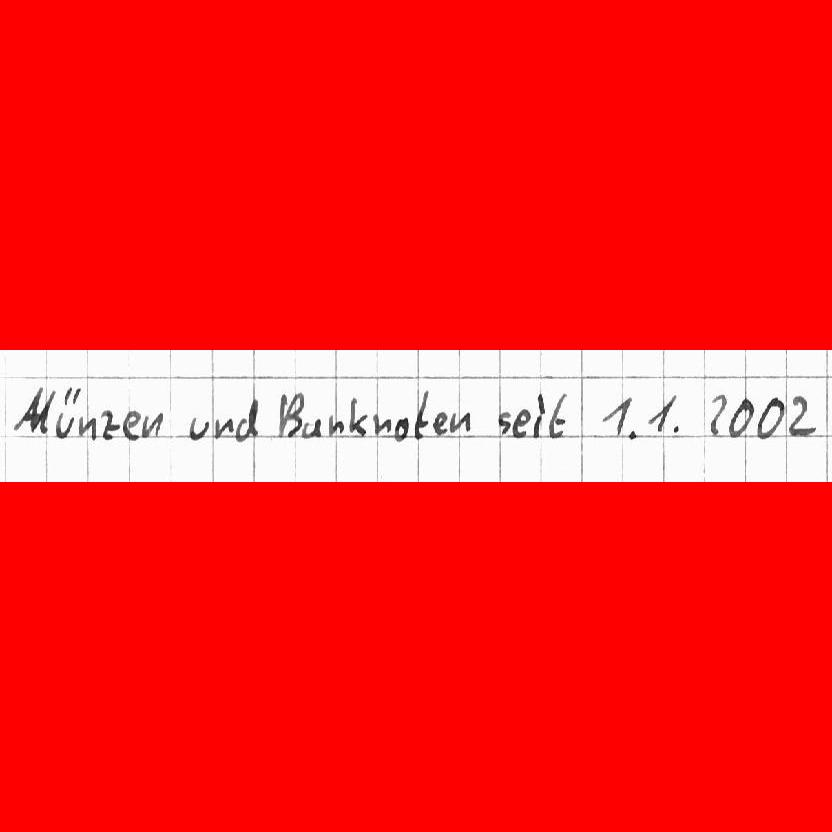Char: (12, 385, 56, 434), (54, 385, 81, 439), (787, 394, 817, 437), (601, 396, 632, 436), (756, 396, 784, 440), (647, 394, 677, 434), (278, 390, 303, 437), (235, 397, 259, 442), (727, 398, 753, 437), (547, 392, 567, 439), (413, 389, 431, 440), (706, 394, 727, 435), (349, 395, 368, 436), (99, 407, 121, 441), (121, 408, 142, 442), (140, 411, 164, 440), (510, 407, 532, 438), (532, 393, 545, 438), (448, 409, 471, 434), (188, 415, 210, 441), (75, 414, 96, 441), (214, 416, 235, 441), (371, 411, 392, 435), (431, 410, 449, 436), (393, 416, 410, 442), (300, 418, 321, 438), (326, 413, 344, 436), (497, 410, 511, 435), (627, 429, 638, 440), (672, 421, 681, 434)
